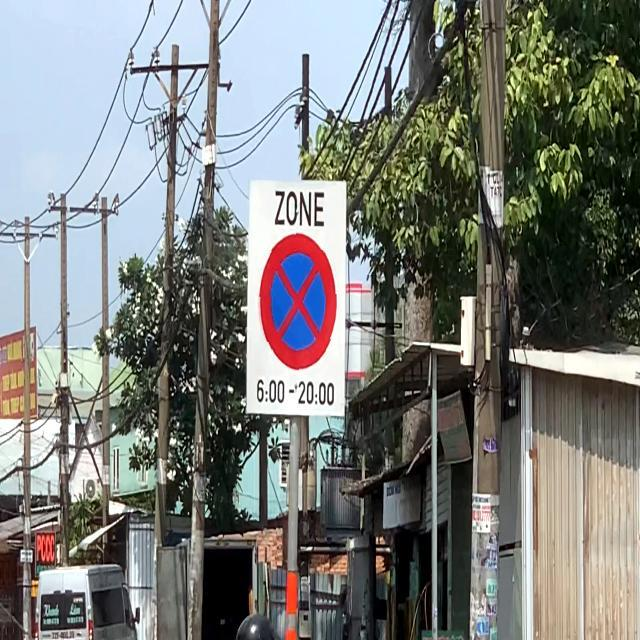P-130: (255, 229, 338, 375)
